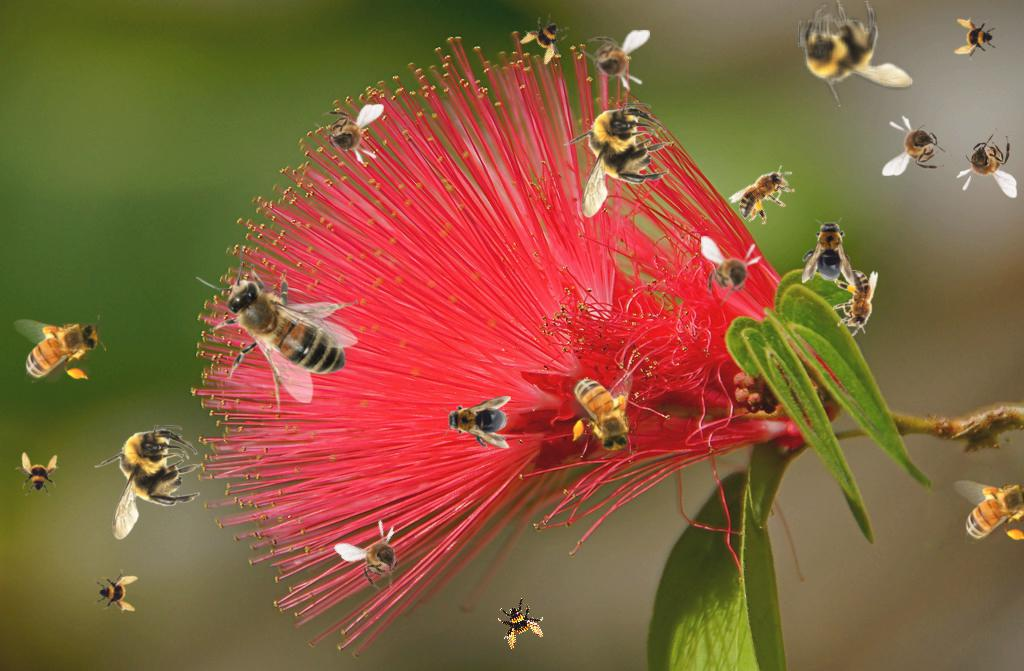Bee: (196, 245, 358, 412), (563, 103, 670, 218), (94, 425, 201, 540), (798, 0, 913, 107), (332, 509, 425, 603), (569, 366, 637, 459), (13, 315, 106, 383), (726, 154, 806, 233), (953, 476, 1024, 544), (580, 30, 650, 91), (314, 104, 384, 165), (956, 128, 1017, 198), (882, 115, 952, 176), (701, 236, 762, 306), (516, 8, 578, 70), (491, 593, 551, 653), (443, 396, 511, 448), (802, 217, 854, 285), (833, 270, 878, 336), (94, 569, 138, 613), (954, 17, 998, 61), (15, 452, 59, 496)
